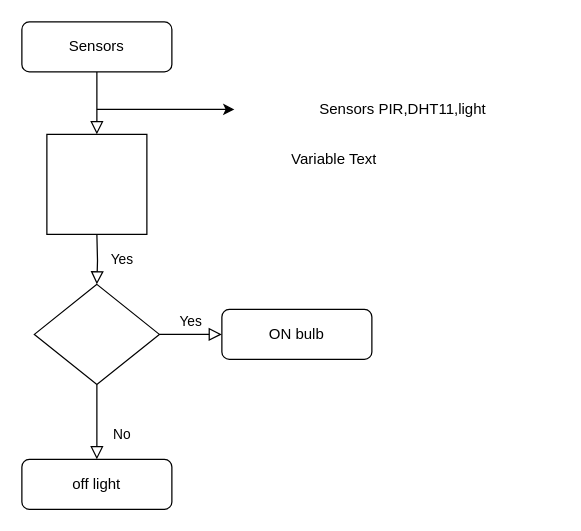
Image size: 581x531. Some labels were removed from this diagram. Here are the shapes that lost their labels. From the top down, the box of each, then its label:
(46, 133, 147, 234): Appliances(Light
(33, 283, 159, 384): Dark
